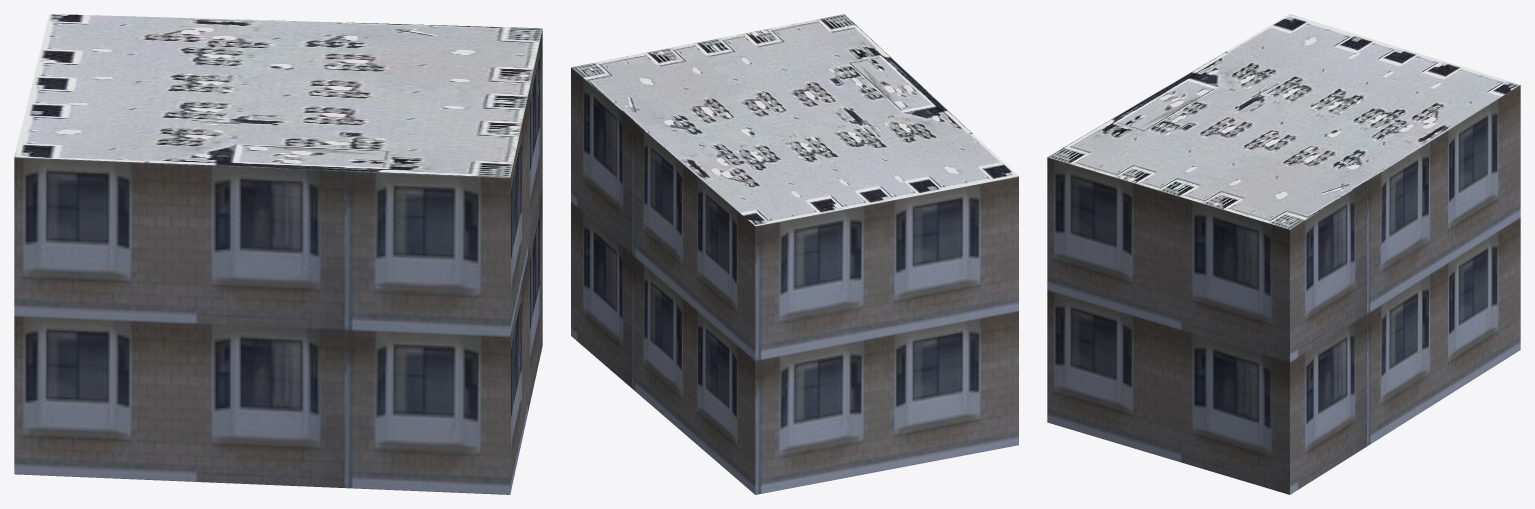
Rendered from ResTex__3267.fbx.
3 renders of one model, left to right at view 1: azimuth 30°, elevation 25°; view 2: azimuth 150°, elevation 25°; view 3: azimuth 270°, elevation 25°, orthographic. The views are drawn at different scales.
Visible parts, largest first — view 1: CityEngineMaterial_3_m, CityEngineMaterial_4_m; view 2: CityEngineMaterial_3_m, CityEngineMaterial_4_m; view 3: CityEngineMaterial_3_m, CityEngineMaterial_4_m.
Boxes of the visible parts, x1,y1,x2,y2 form: CityEngineMaterial_3_m: [14, 30, 542, 494]; CityEngineMaterial_4_m: [14, 14, 542, 177]; CityEngineMaterial_3_m: [571, 67, 1018, 494]; CityEngineMaterial_4_m: [571, 14, 1018, 226]; CityEngineMaterial_3_m: [1047, 85, 1520, 494]; CityEngineMaterial_4_m: [1047, 14, 1520, 229].
Size of the model in its own units: 10.47 by 6 by 9.71.
2 materials, 2 textured.
